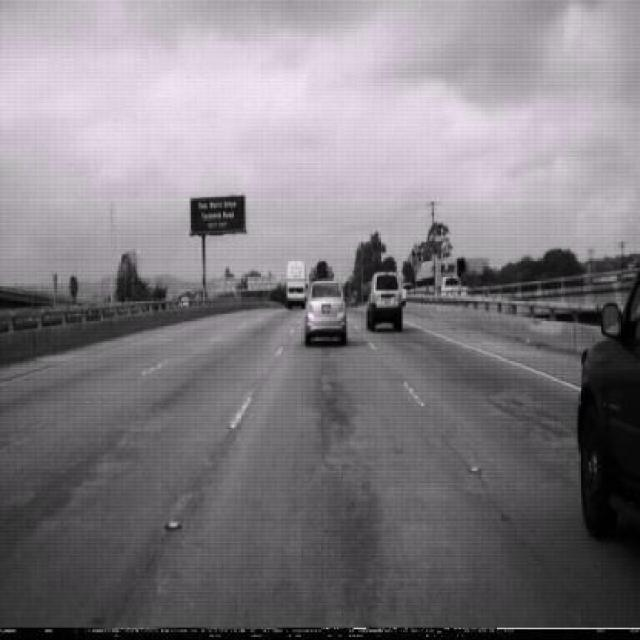addedLane: (408, 242, 423, 274)
